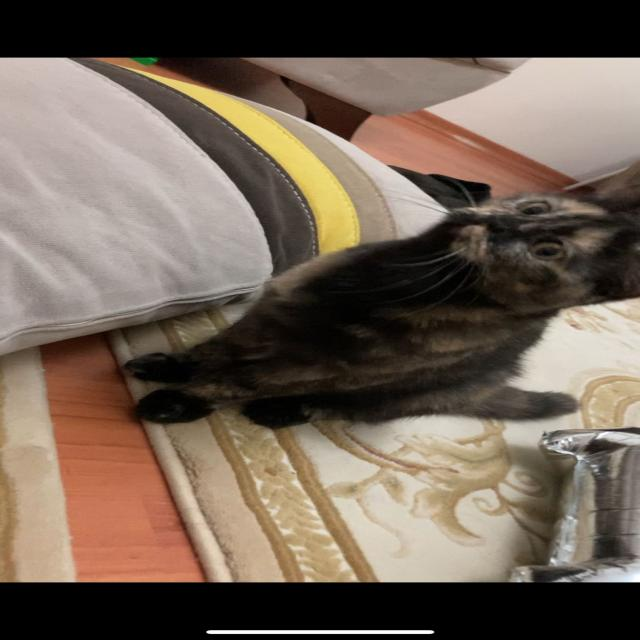authorized: (123, 181, 638, 429)
